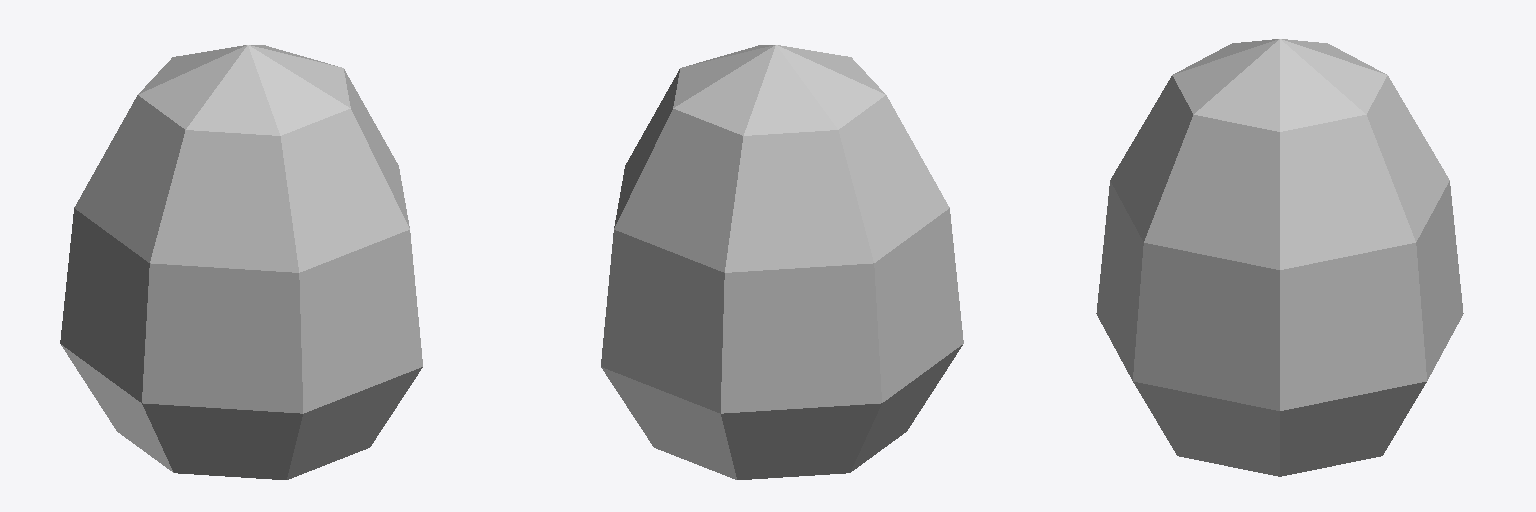
File: Egg_A__1.obj
3 views of the same model, side by side, from view 1: azimuth 30°, elevation 25°; view 2: azimuth 150°, elevation 25°; view 3: azimuth 270°, elevation 25° (orthographic).
Parts seen in each view (by area): view 1: sphere2; view 2: sphere2; view 3: sphere2.
Boxes of the visible parts, x1=… form: sphere2: x1=60, y1=45, x2=422, y2=479; sphere2: x1=601, y1=45, x2=963, y2=479; sphere2: x1=1096, y1=39, x2=1463, y2=476.
Bounding box in the file's own units: 1.81 × 2.38 × 1.85.